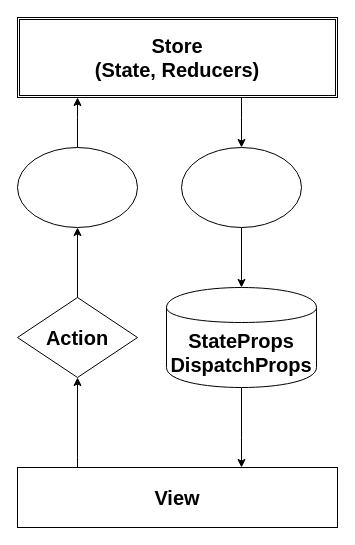
Image size: 355x545. Some labels were removed from this diagram. The shapes that lost their labels are listed below. From the top down, each one's box as (x1, y1, x2, y2) in pixels, then its label:
(16, 146, 138, 228): Dispatch
(180, 146, 302, 228): Connect
